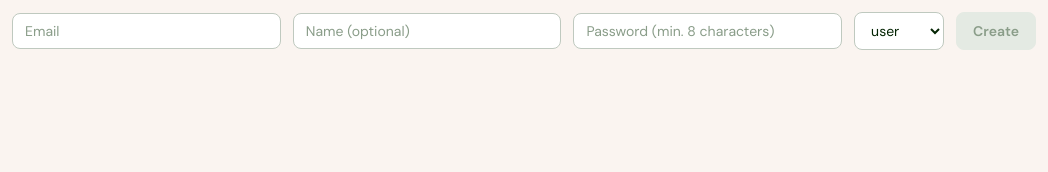
Test: CreateUserForm › surfaces a duplicate-email error and keeps the input
Type "dup@x.io" into the field with placeholder "Email" at [146, 31], box [12, 13, 281, 49]
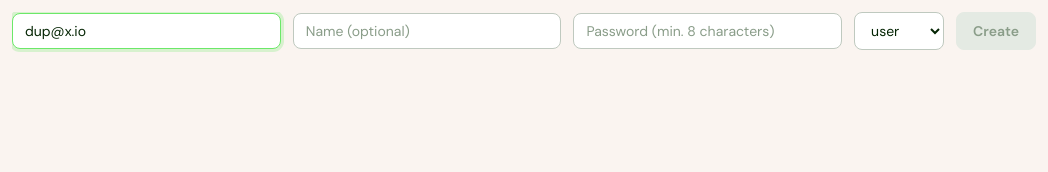
Type "secret-password" into the password field with placeholder "Password (min. 8 characters)" at [708, 31], box [573, 13, 842, 49]
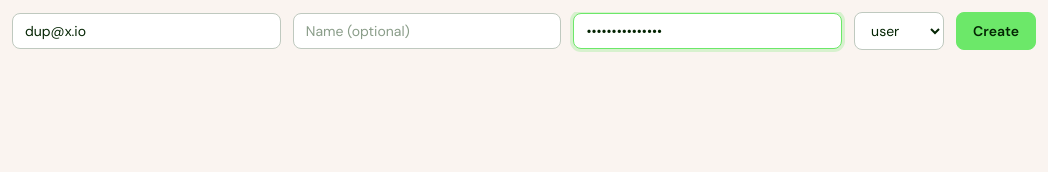
Click the button "Create" at [996, 31], box [956, 12, 1036, 50]
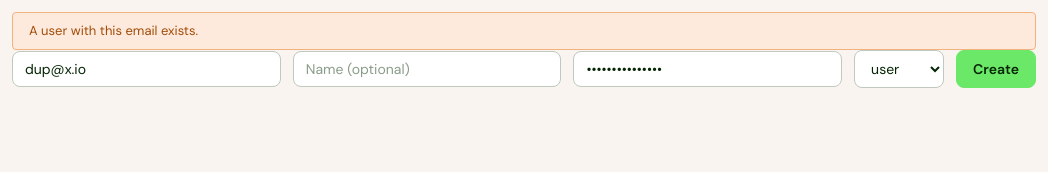
Expected: the text "A user with this email exists." is shown, [12, 12, 1036, 50]
